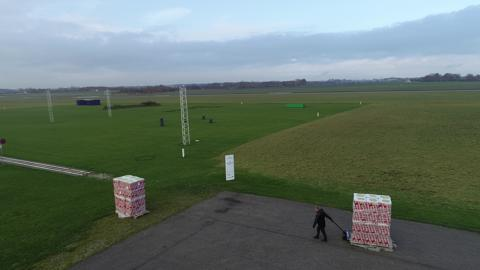RockwoolPallet: (350, 192, 392, 247)
